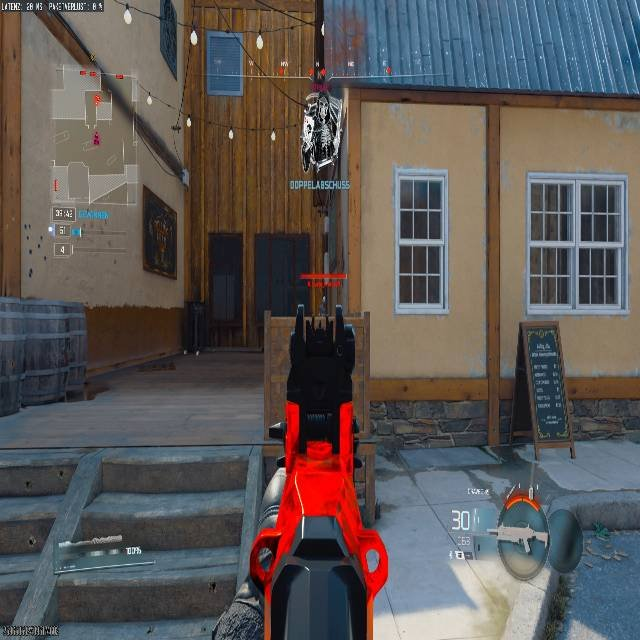player: (457, 475, 584, 638), (302, 88, 342, 175)
